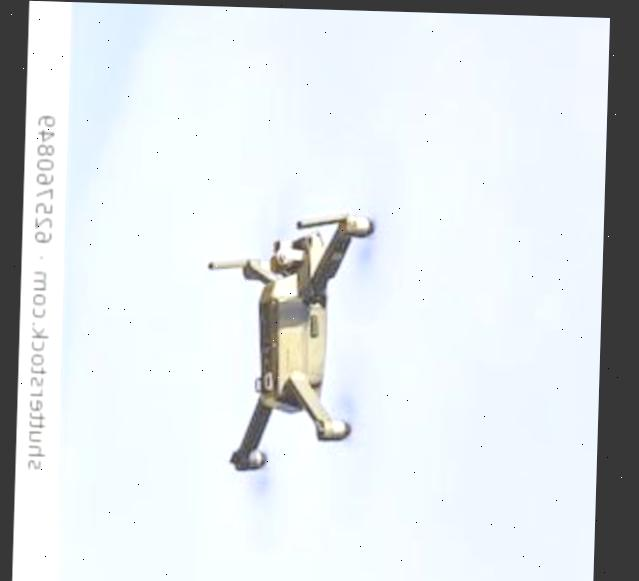drone: (15, 1, 475, 581)
